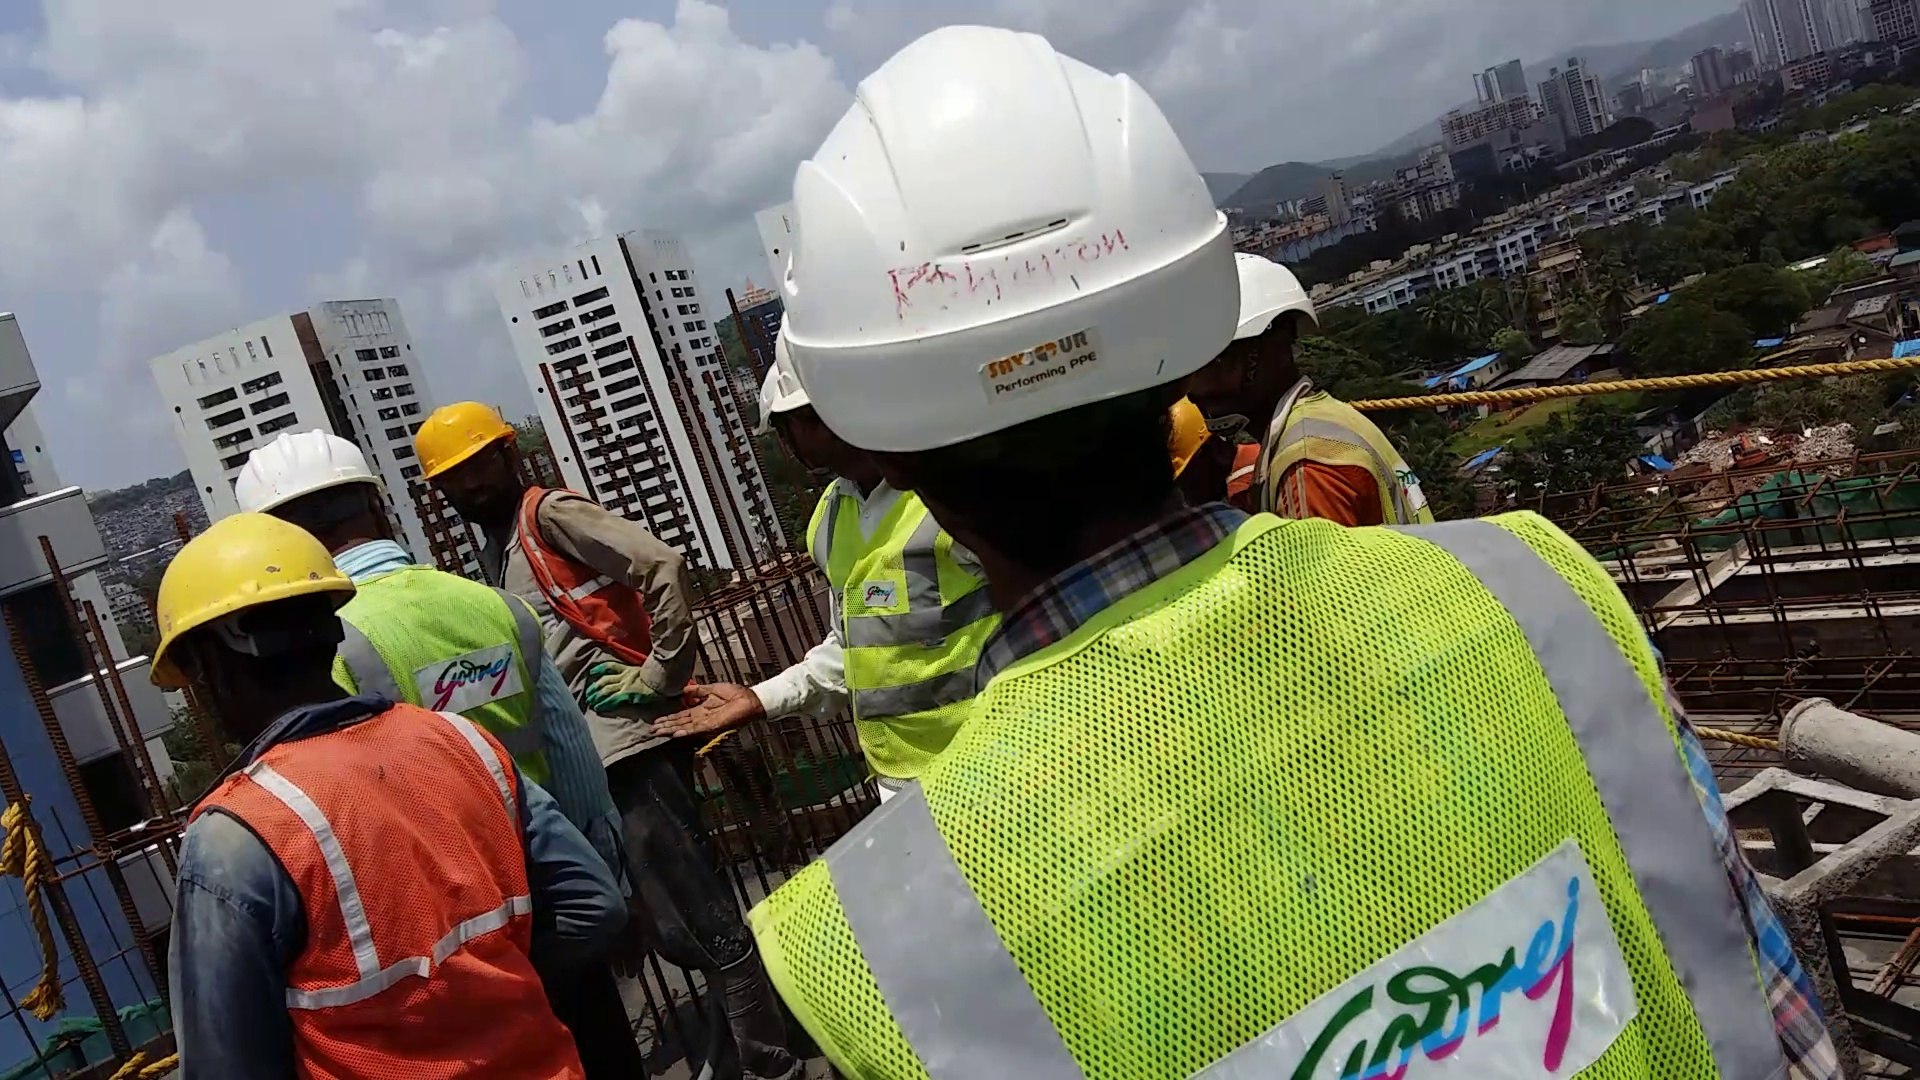SAFE: (742, 12, 1367, 1080), (152, 512, 421, 1080), (423, 393, 674, 684)
